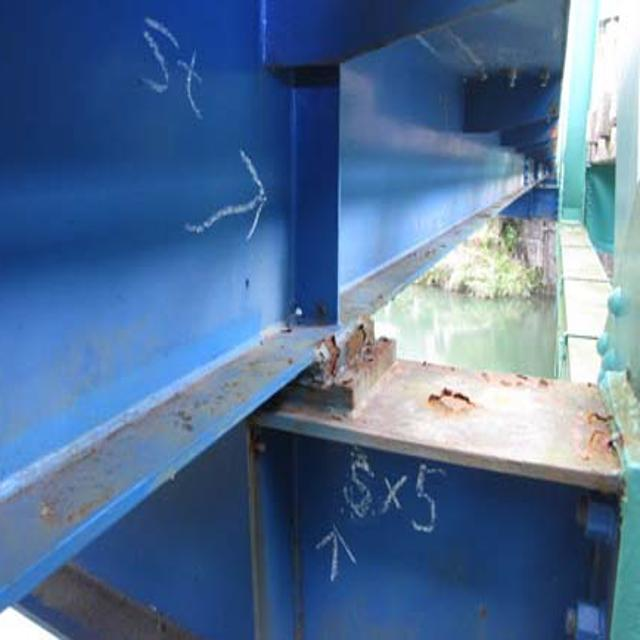corrosion: (308, 296, 638, 490)
